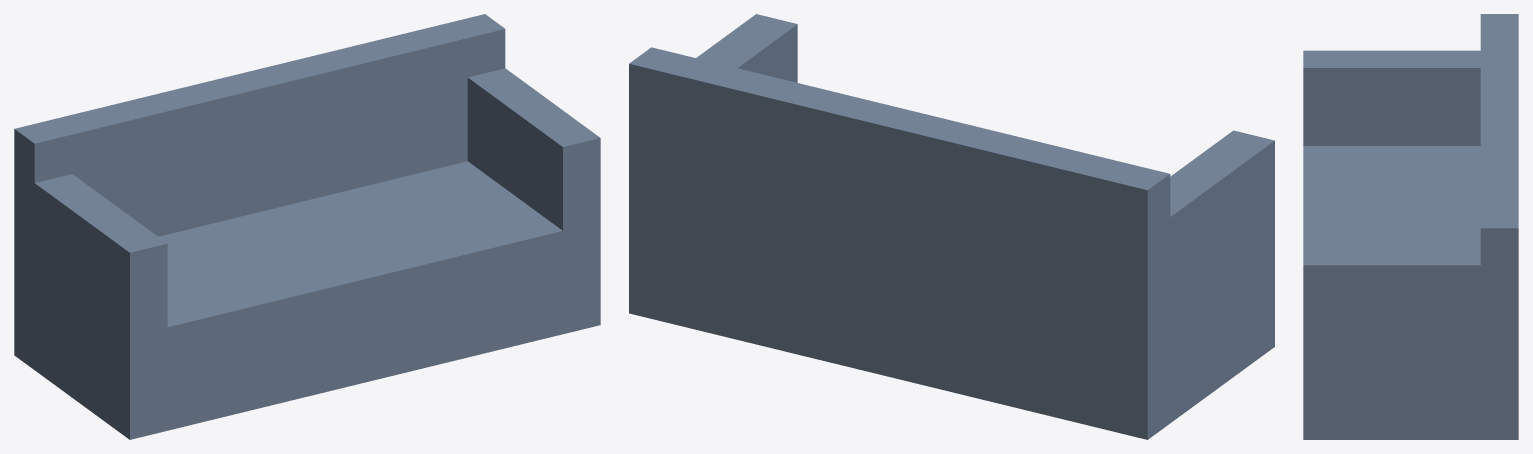
Rendered from sofa.gltf.
The picture shows the model from 3 angles, left to right: view 1: azimuth 30°, elevation 25°; view 2: azimuth 150°, elevation 25°; view 3: azimuth 270°, elevation 25°; orthographic projection. The views are drawn at different scales.
Bounding box in the file's own units: 2 × 0.92 × 0.85.
